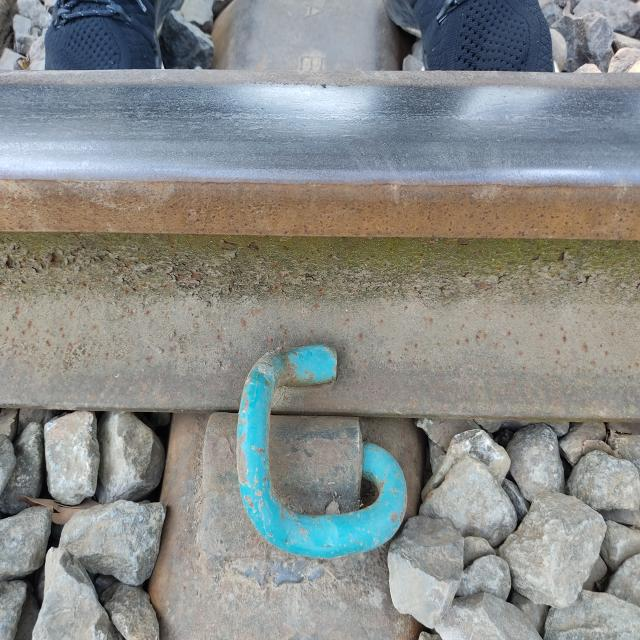non-defective: (176, 114, 449, 572)
